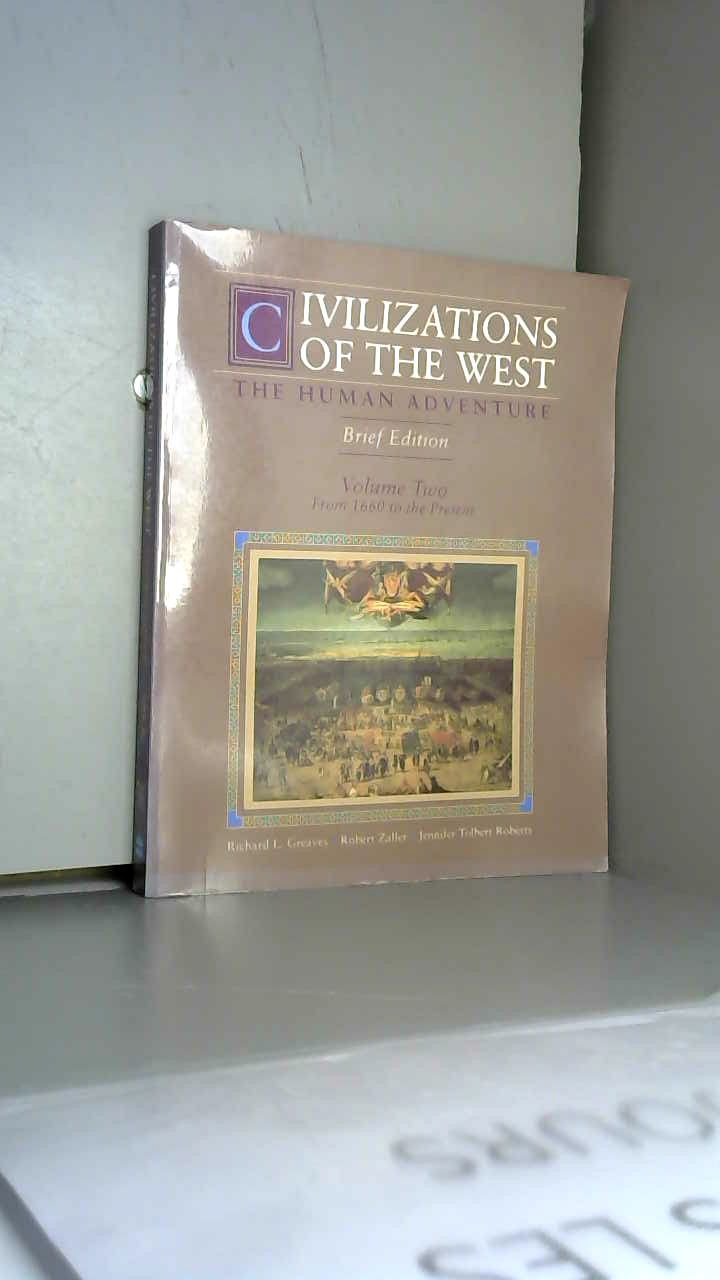book: (110, 200, 720, 921)
